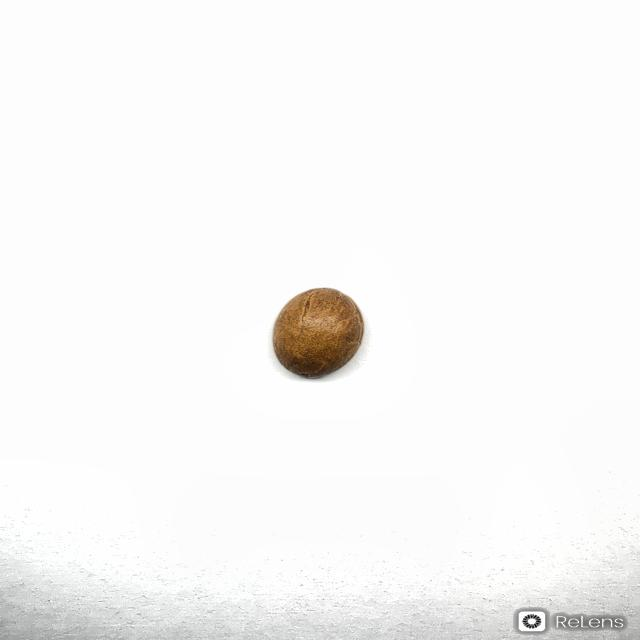Good bean: (271, 287, 364, 379)
